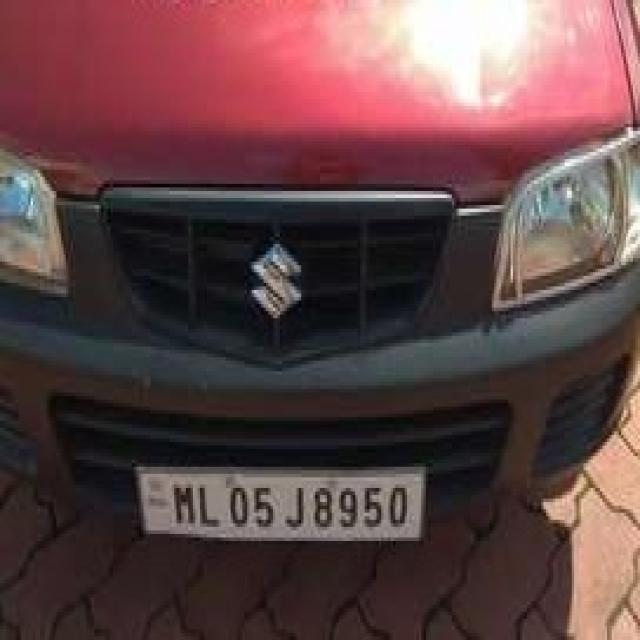plate: (138, 464, 430, 541)
